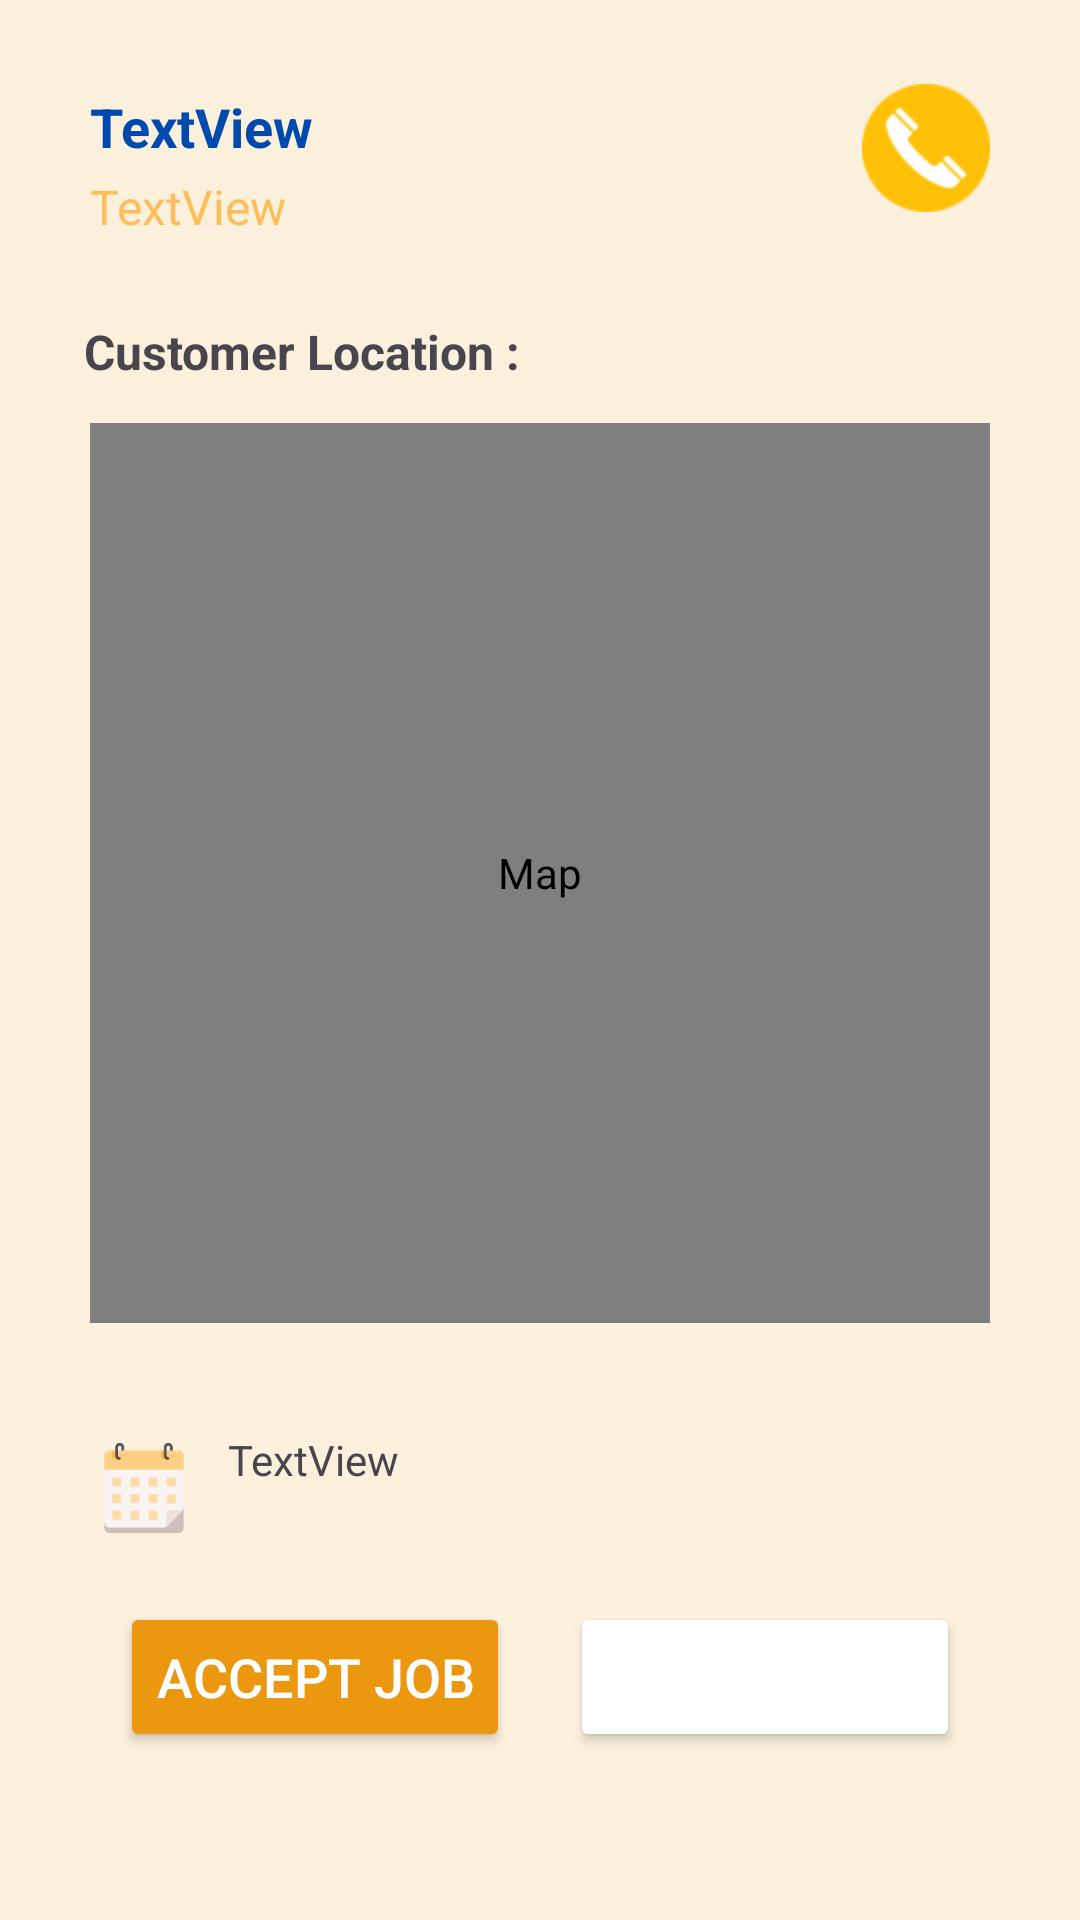

Locate icon controls on the screen. Image size 1080×1920, boxes as box(x1, y1, x2, y2).
calendar: box(104, 1443, 184, 1533)
call: box(862, 84, 990, 212)
